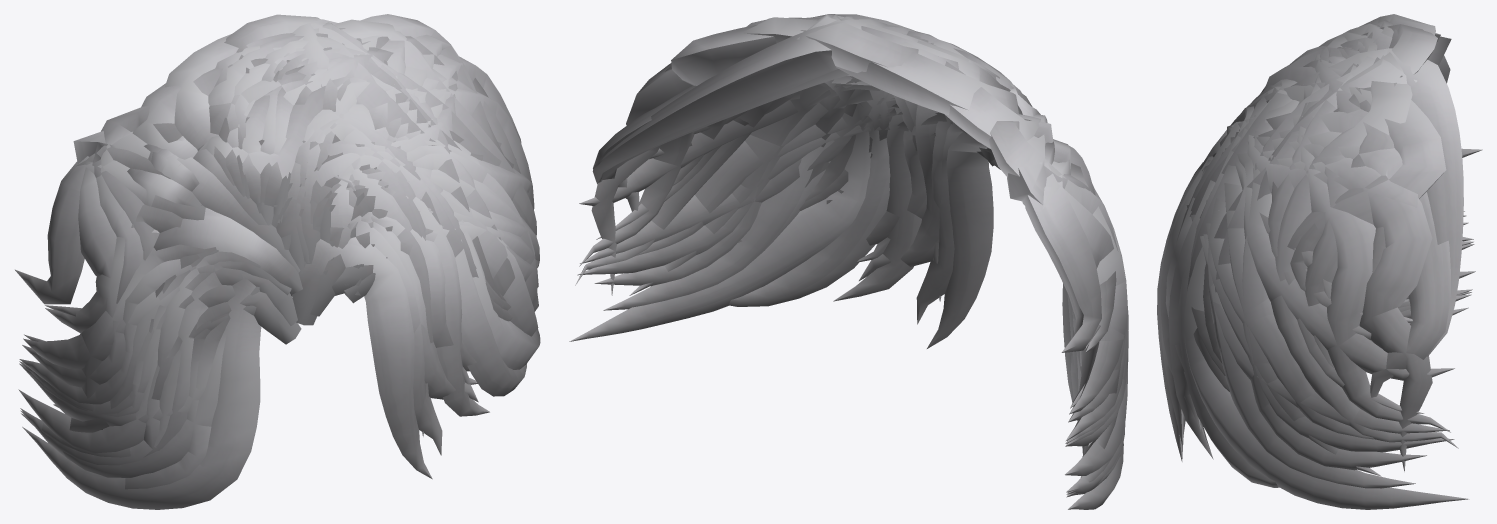
The model's file is vroid_hair_c11v6.glb.
The picture shows the model from 3 angles, left to right: view 1: azimuth 30°, elevation 25°; view 2: azimuth 150°, elevation 25°; view 3: azimuth 270°, elevation 25°; orthographic projection. The views are drawn at different scales.
Visible parts, largest first — view 1: hair; view 2: hair; view 3: hair.
Part boxes in pixels (<box>): hair: <box>15,14,540,509</box>; hair: <box>569,14,1128,509</box>; hair: <box>1157,14,1482,509</box>.
Bounding box in the file's own units: 0.1947 × 0.1607 × 0.1123.
1 material, 1 textured.
